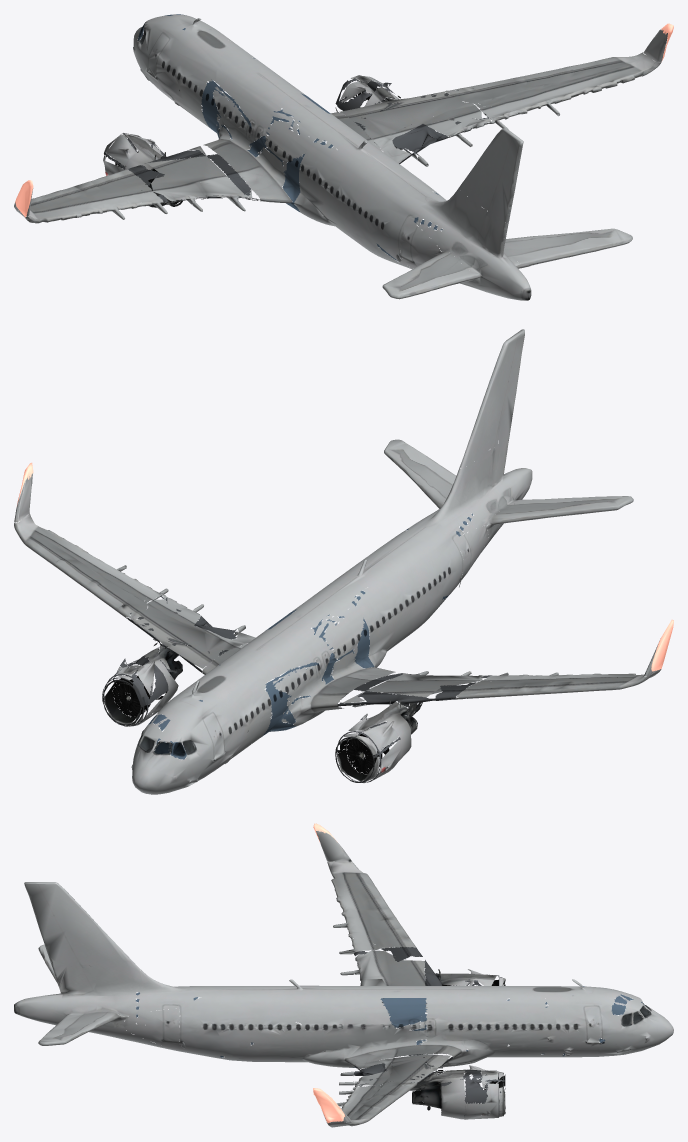
File: aircraft-lod2.glb
3 views of the same model, one above another, from view 1: azimuth 30°, elevation 25°; view 2: azimuth 150°, elevation 25°; view 3: azimuth 270°, elevation 25° (orthographic). The views are drawn at different scales.
Parts seen in each view (by area): view 1: lod2; view 2: lod2; view 3: lod2.
Boxes of the visible parts, x1,y1,x2,y2 form: lod2: [14, 14, 673, 300]; lod2: [14, 329, 673, 794]; lod2: [14, 823, 673, 1127].
Size of the model in its own units: 35.79 by 11.73 by 37.57.
Materials: 11 (11 with a texture image).
